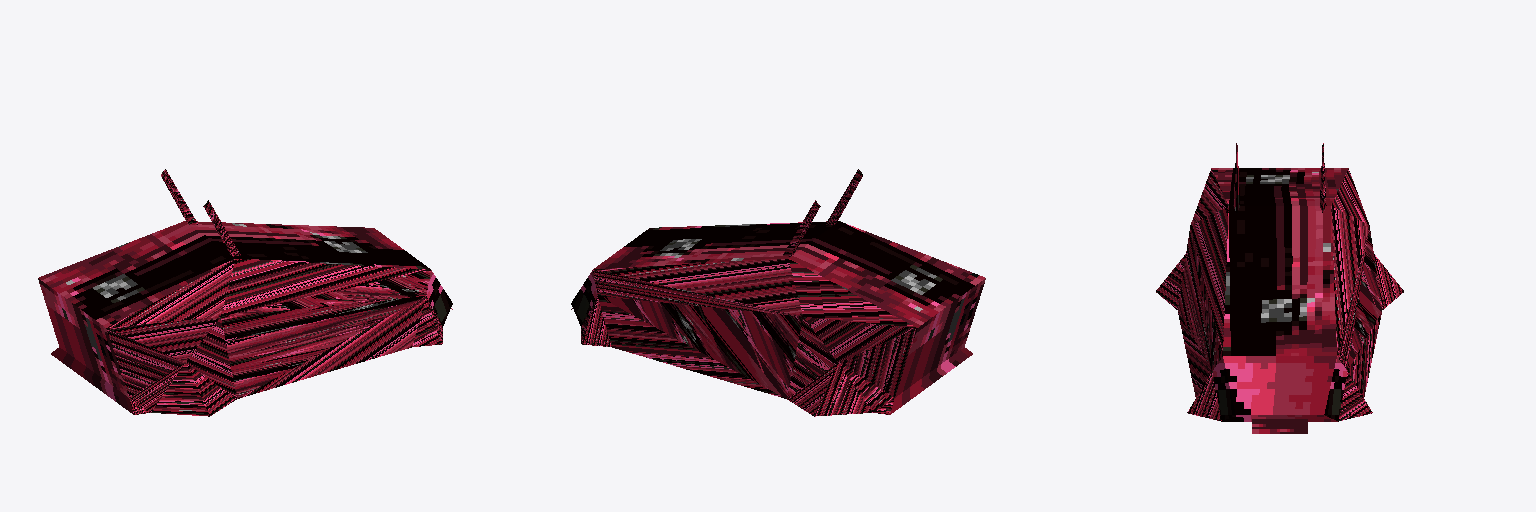
3 views of the same model, side by side, from view 1: azimuth 30°, elevation 25°; view 2: azimuth 150°, elevation 25°; view 3: azimuth 270°, elevation 25° (orthographic).
Bounding box in the file's own units: 3.65 × 1.68 × 2.14.
1 materials, 1 textured.